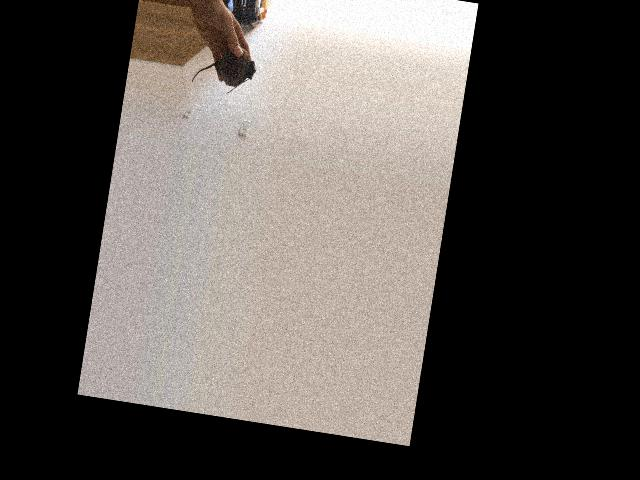beet: (190, 40, 259, 98)
